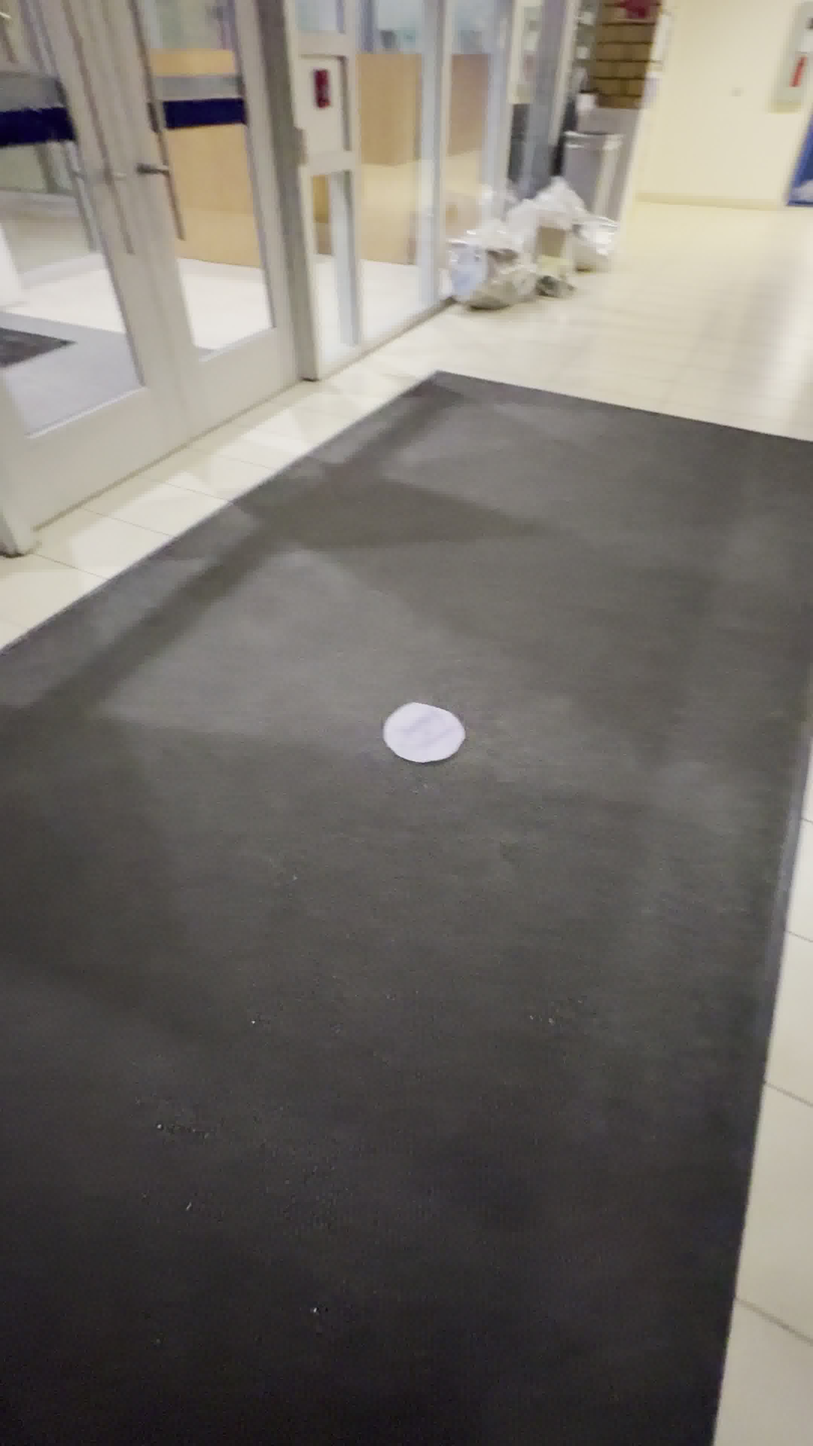Target: (381, 701, 466, 763)
